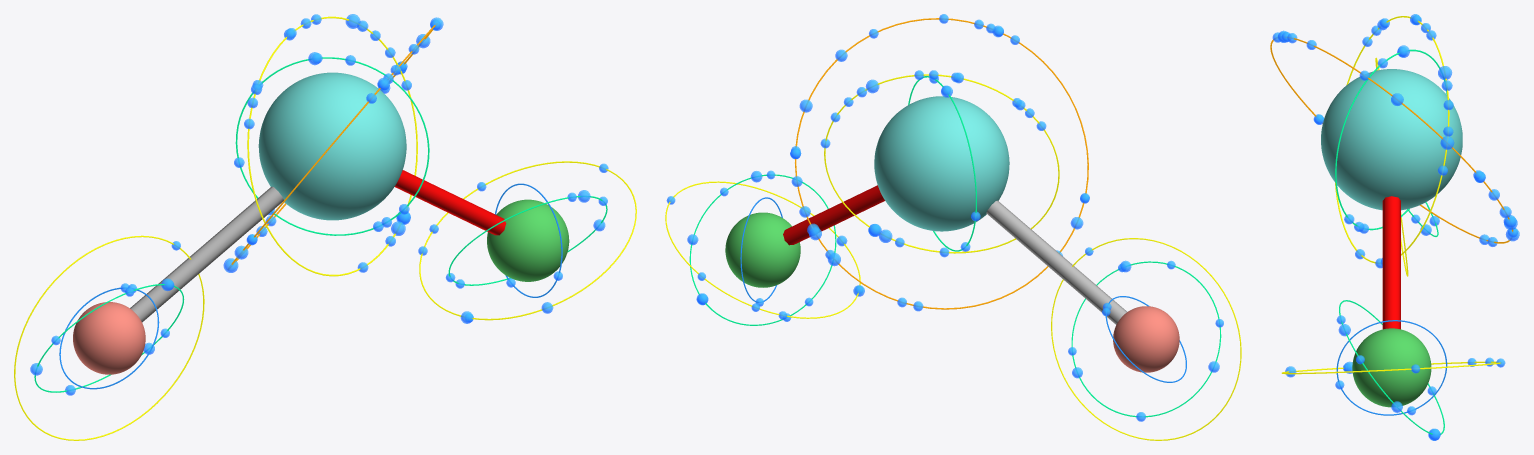
The model's file is NaClTe.glb.
3 views of the same model, side by side, from view 1: azimuth 30°, elevation 25°; view 2: azimuth 150°, elevation 25°; view 3: azimuth 270°, elevation 25° (orthographic). The views are drawn at different scales.
Parts seen in each view (by area): view 1: Te, Cl, Na, object 175, object 174, object 24, object 88, object 50, object 71, object 125; view 2: Te, Cl, Na, object 175, object 174, object 125, object 24, object 88, object 50, object 7, object 33; view 3: Te, Cl, object 174, object 125, object 88, object 50, object 28, object 71, object 33.
Part boxes in pixels (<box>): Te: <box>258,72,406,220</box>; Cl: <box>487,199,569,281</box>; Na: <box>73,302,145,374</box>; object 175: <box>130,186,283,322</box>; object 174: <box>394,170,506,235</box>; object 24: <box>14,235,204,440</box>; object 88: <box>247,16,417,276</box>; object 50: <box>419,161,636,320</box>; object 71: <box>235,57,429,235</box>; object 125: <box>231,25,435,264</box>; Te: <box>874,96,1009,231</box>; Cl: <box>725,212,800,287</box>; Na: <box>1113,306,1179,372</box>; object 175: <box>986,200,1126,324</box>; object 174: <box>783,185,884,245</box>; object 125: <box>795,18,1088,309</box>; object 24: <box>1051,238,1241,440</box>; object 88: <box>824,74,1059,253</box>; object 50: <box>665,181,860,318</box>; object 7: <box>1071,261,1221,417</box>; object 33: <box>689,174,836,325</box>; Te: <box>1321,69,1462,210</box>; Cl: <box>1352,328,1431,407</box>; object 174: <box>1382,196,1400,329</box>; object 125: <box>1270,38,1513,243</box>; object 88: <box>1335,16,1449,263</box>; object 50: <box>1281,361,1500,374</box>; object 28: <box>1336,320,1447,415</box>; object 71: <box>1335,49,1447,230</box>; object 33: <box>1339,300,1444,434</box>.
Bounding box in the file's own units: 14.78 × 8.42 × 5.45.
